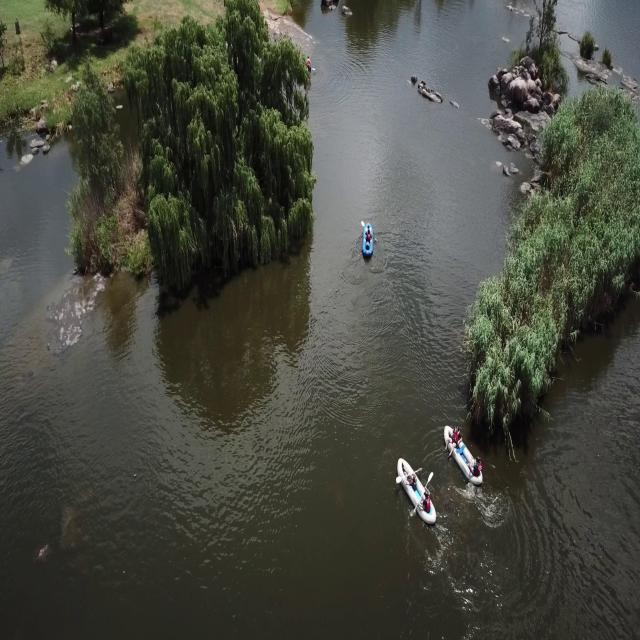kayak: (394, 452, 440, 532), (442, 418, 483, 491), (360, 222, 376, 262)
